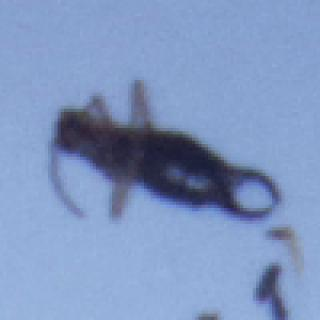earwig: (41, 75, 285, 229)
